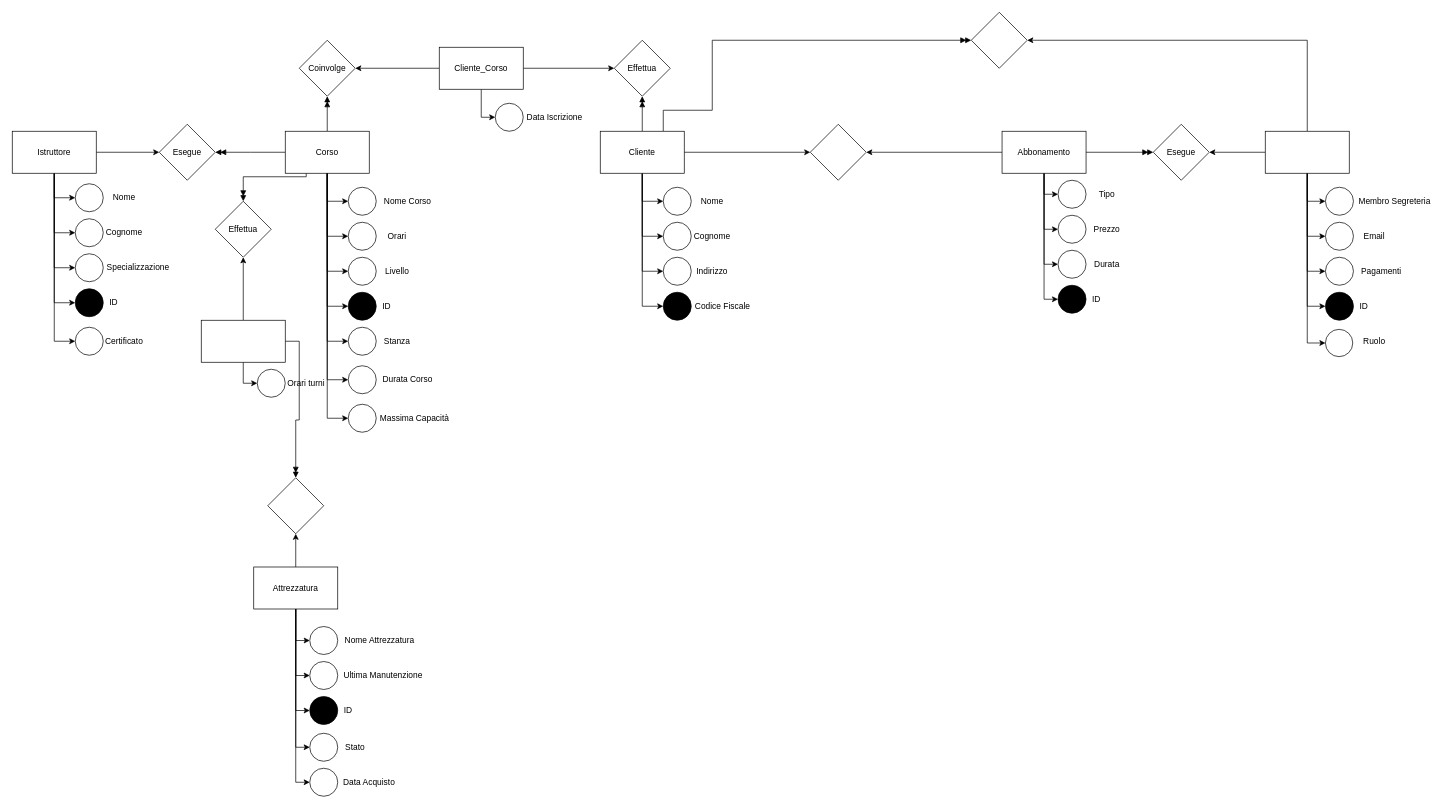
The diagram is 1446 pixels wide and 809 high, and some of its shapes have lost their labels. The centre of each missing label's shape, as x and y in pixels:
"Corso_Attrezzatura" goes at (243,341).
"Gestisce" goes at (999,40).
"Possiede" goes at (838,152).
"Segreteria" goes at (1307,152).
"Utilizza" goes at (295,505).
